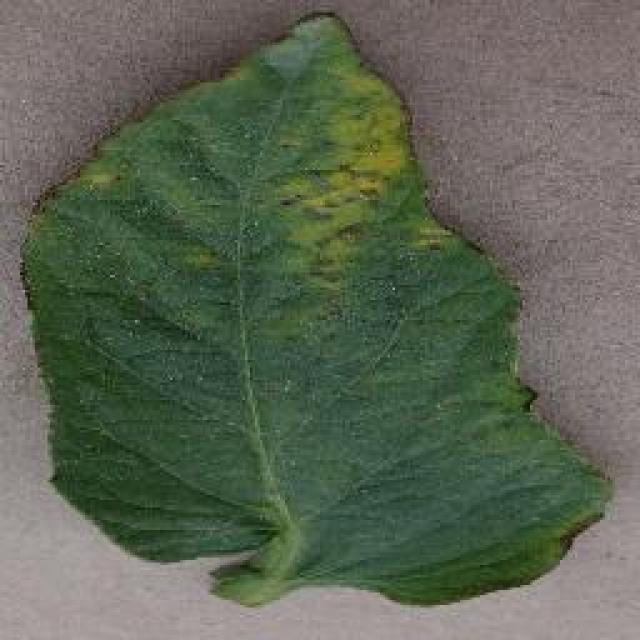bacterial spot: (14, 14, 616, 608)
